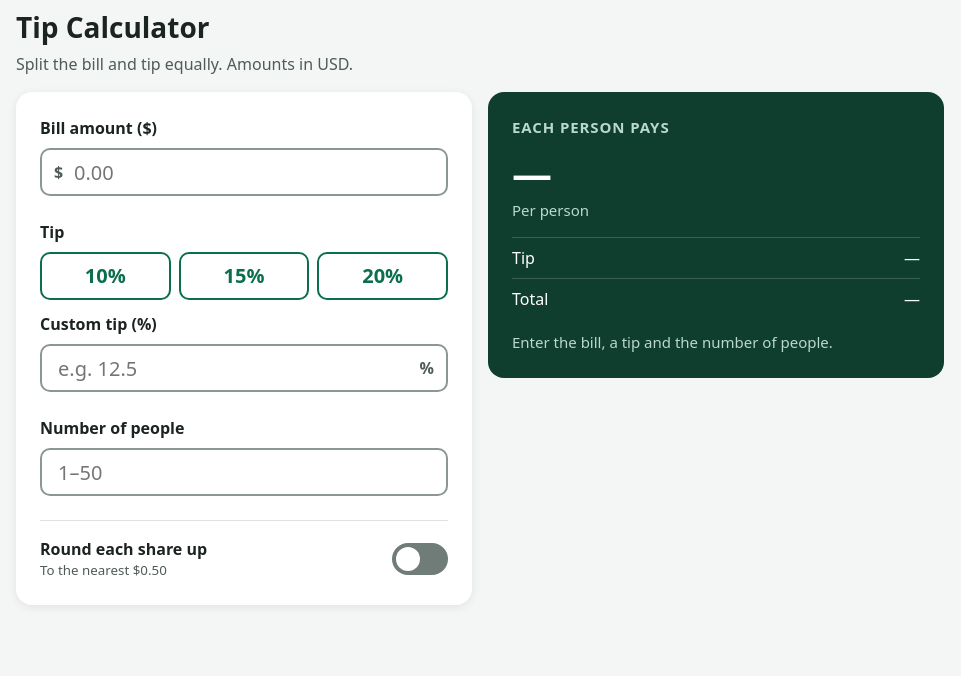
Scenario: S1: Enter the bill amount › 0 shows the valid-range message
Type "0" into the field labelled "Bill amount ($)".
click(244, 172); type("0")  # box x1=40 y1=148 x2=448 y2=196
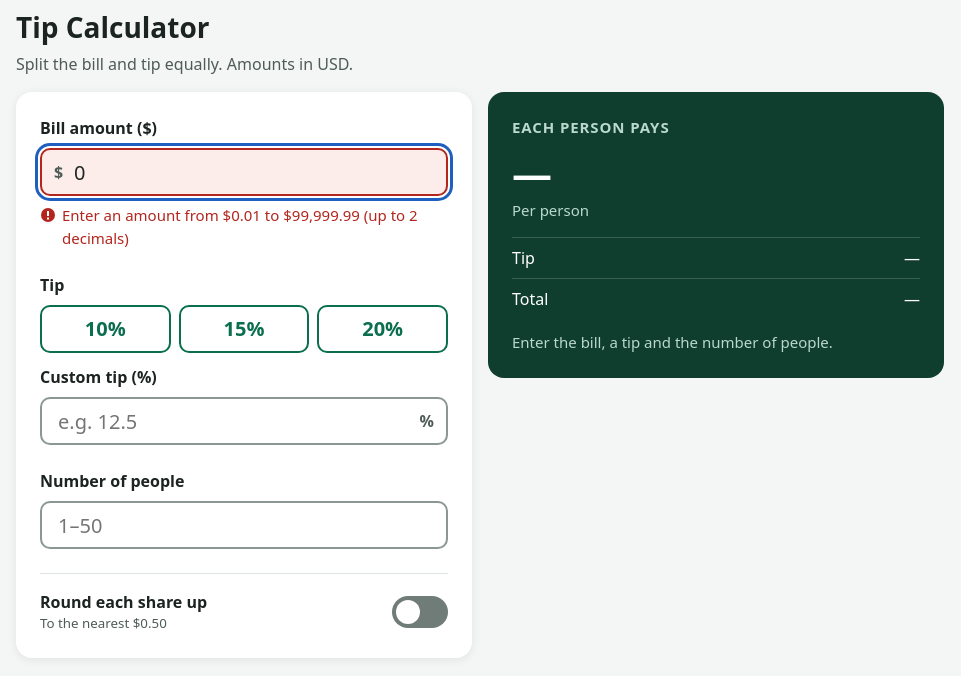
Expected: the element showing "Enter an amount from $0.01 to $99,999.99 (up to 2 decimals)" is shown, x1=40 y1=204 x2=448 y2=249
